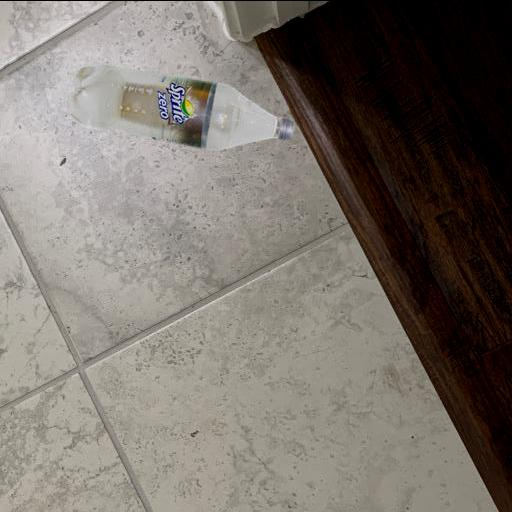bottle: (66, 52, 298, 154)
